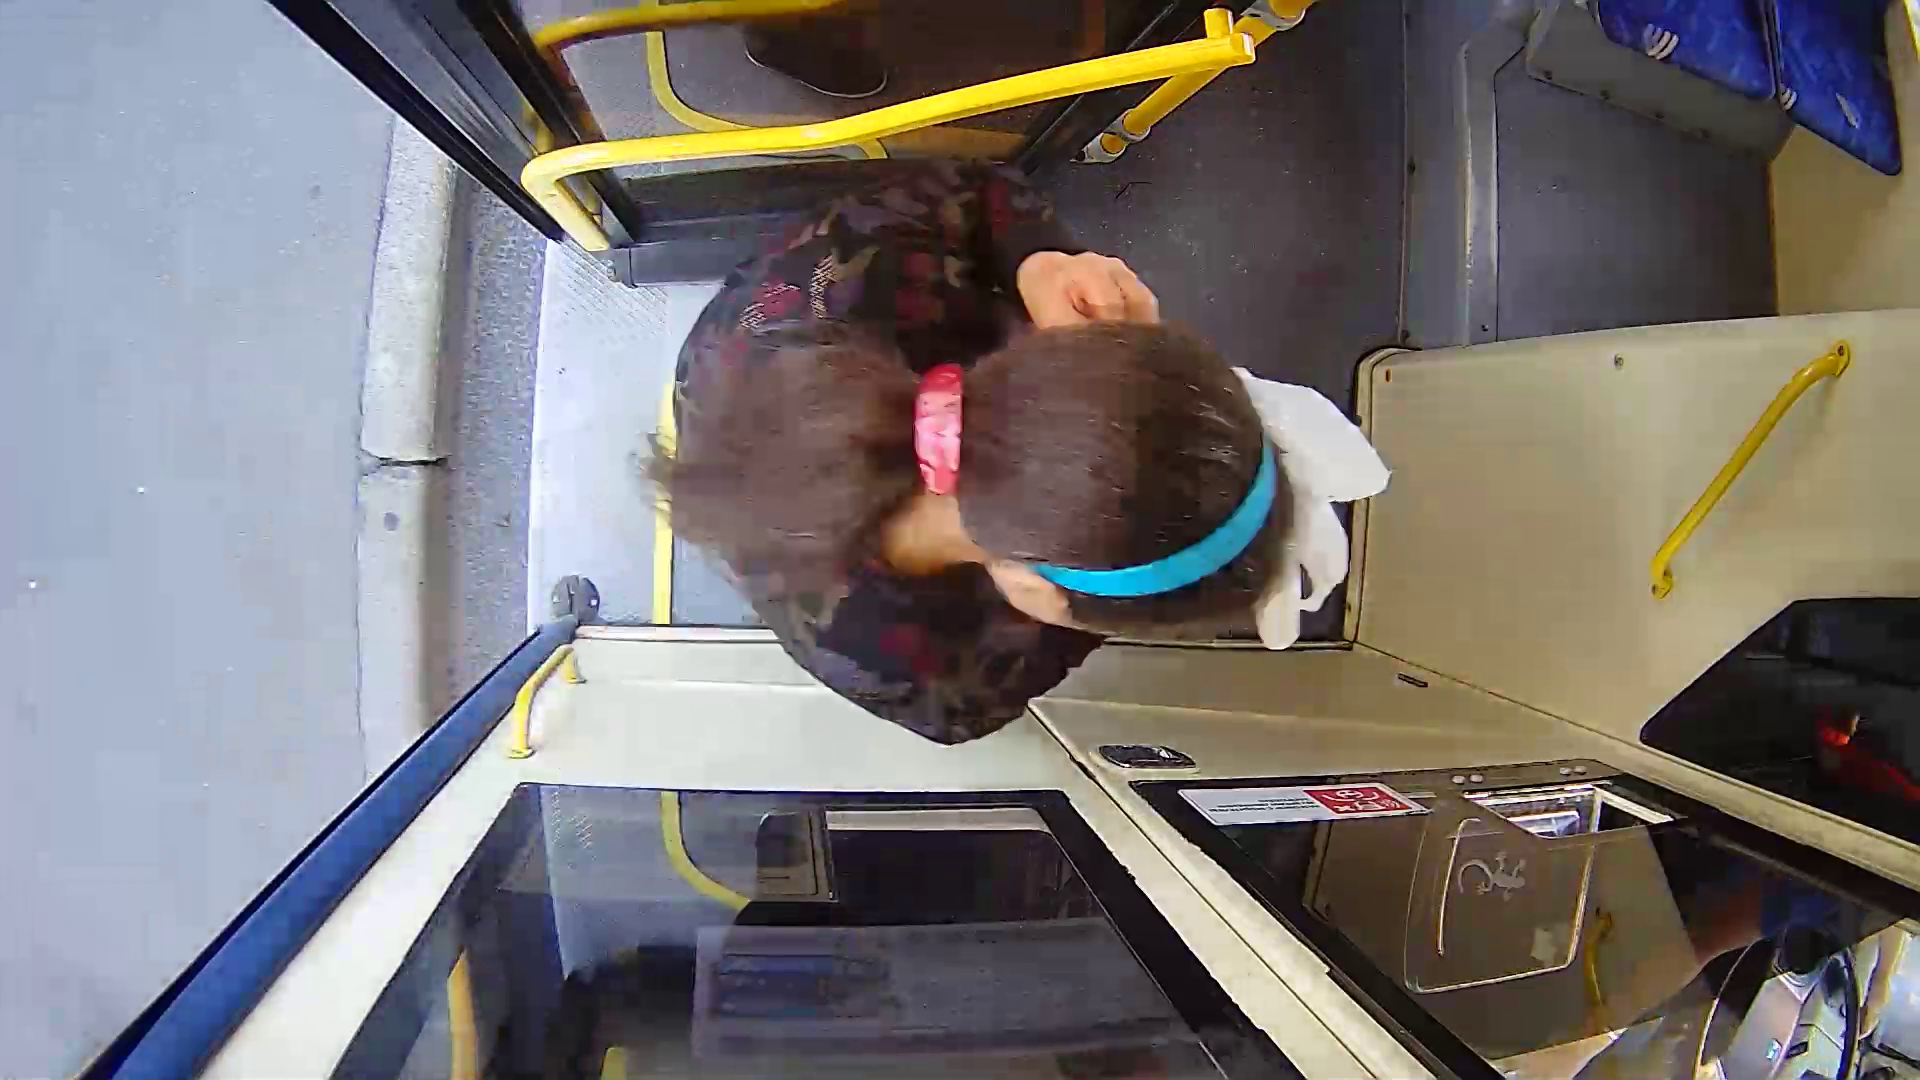person: (689, 177, 1421, 738)
